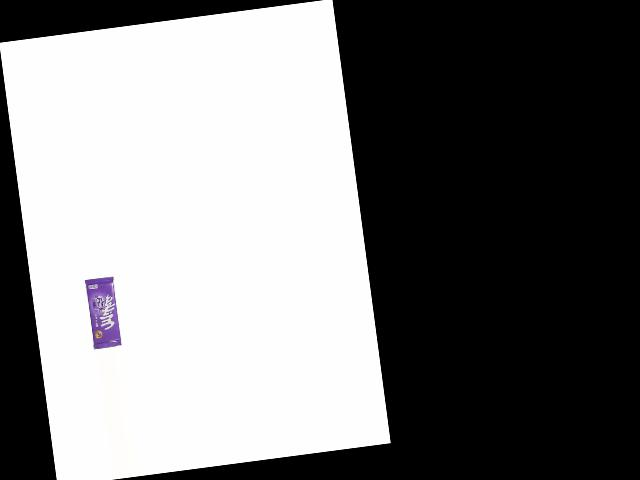chocolate: (80, 272, 123, 350)
